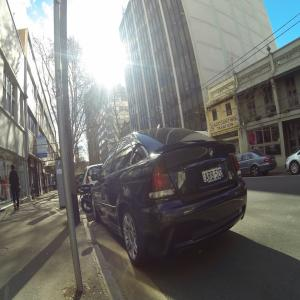Vehicle-registration-plate: (203, 168, 225, 185)
